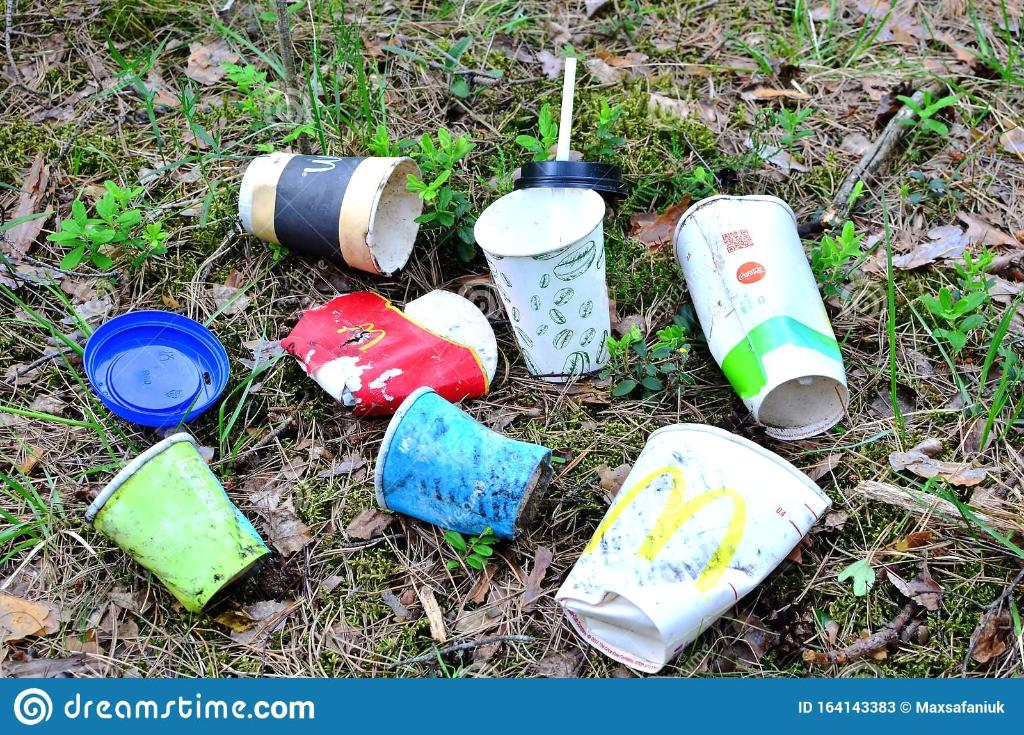garbage: (534, 425, 856, 675), (444, 109, 646, 392), (656, 184, 864, 456), (348, 380, 573, 551), (73, 434, 278, 620), (259, 292, 526, 427), (236, 130, 441, 285), (62, 305, 262, 428)
